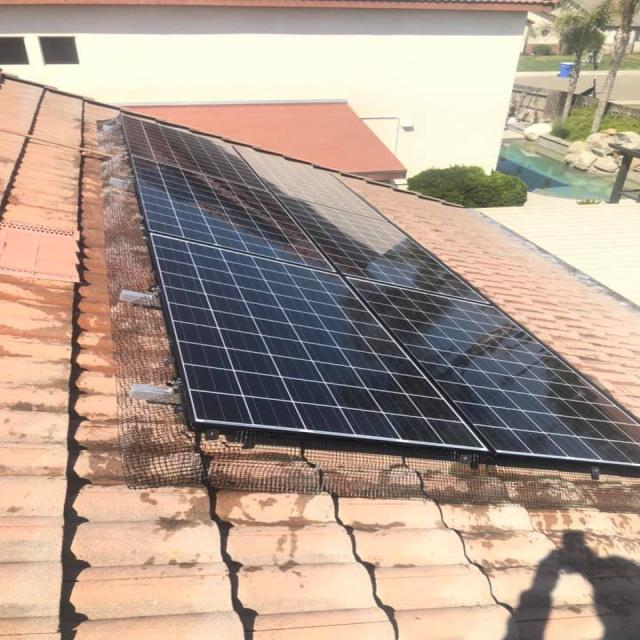clean-solar-panel: (0, 76, 638, 640)
